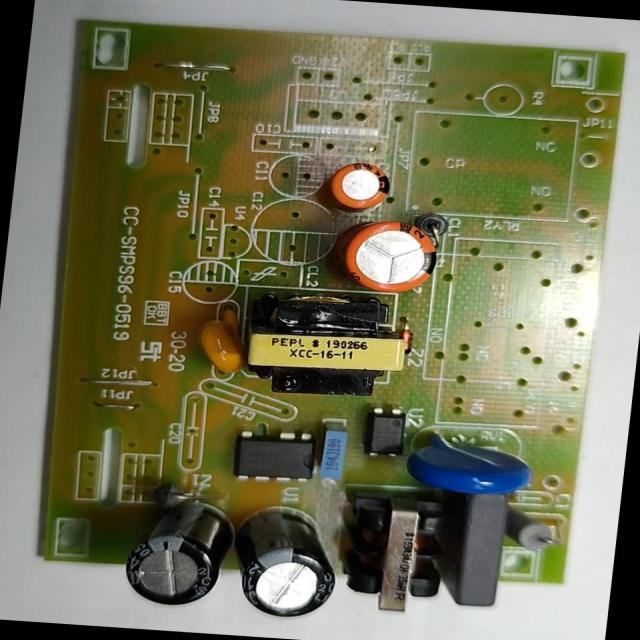Cap1: (338, 217, 443, 299)
Cap2: (326, 159, 397, 215)
Cap3: (226, 501, 347, 623)
Cap4: (119, 492, 240, 611)
MOSFET: (230, 426, 324, 489)
Mov: (402, 426, 536, 502)
Resistor: (499, 504, 558, 558)
Transformer: (238, 282, 417, 403), (332, 484, 463, 619)
